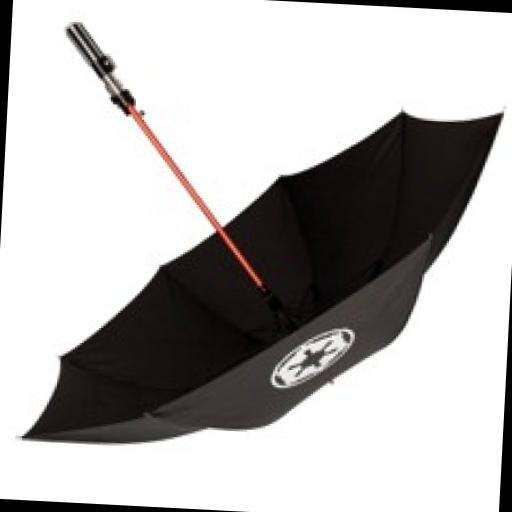sith saber: (51, 20, 272, 285)
